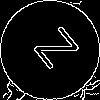Z: (25, 25, 80, 78)
